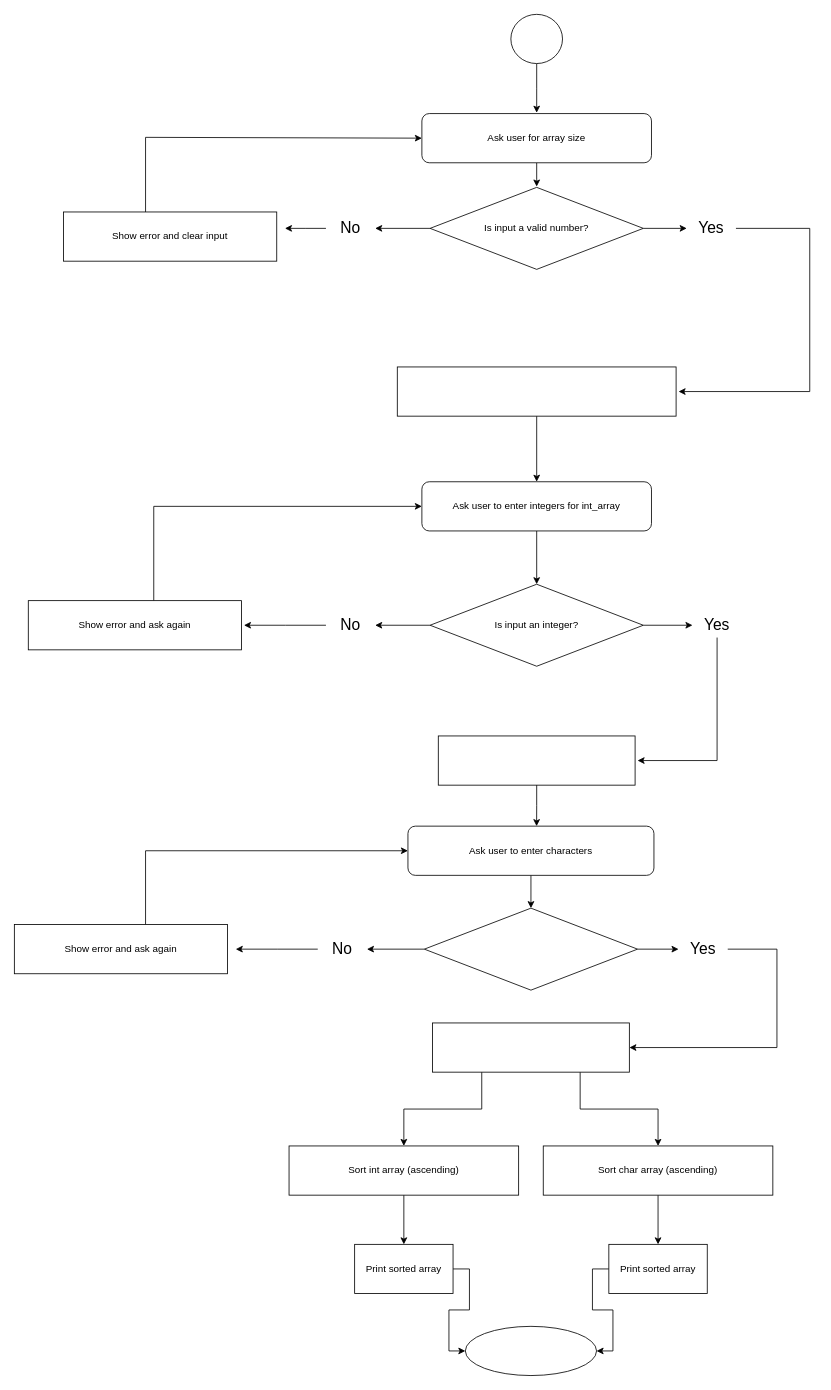
Image size: 831x1390. Some labels were removed from this diagram. Each missing label, with the centre of its shape:
"Create int and char arrays of given size" goes at (x=536, y=391).
"End" goes at (x=531, y=1351).
"Is input a letter (A–Z)?" goes at (x=531, y=948).
"Print the char array" goes at (x=530, y=1047).
"Print the int array" goes at (x=536, y=760).
"Start" goes at (x=536, y=39).
